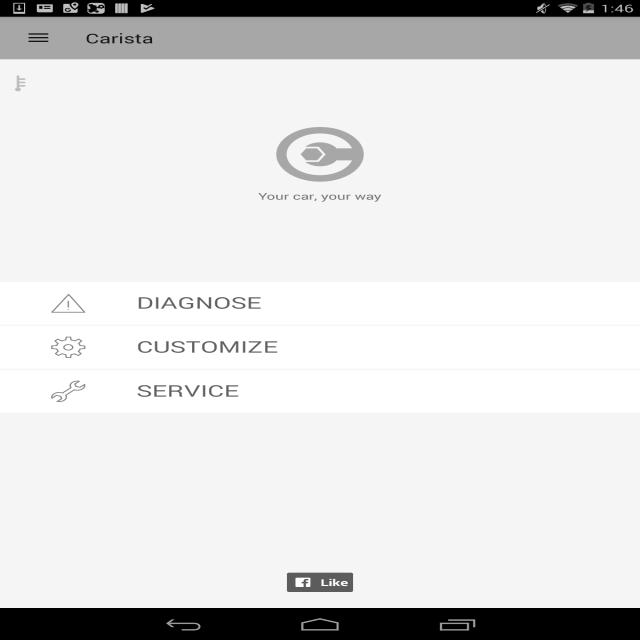Button: (276, 564, 359, 594)
ImageButton: (22, 29, 63, 48)
ImageView: (262, 123, 369, 182), (45, 369, 98, 403), (41, 286, 100, 316), (39, 328, 94, 360)
TextView: (124, 332, 299, 356), (132, 380, 249, 404), (124, 293, 273, 311), (256, 188, 381, 206), (86, 26, 160, 50)
